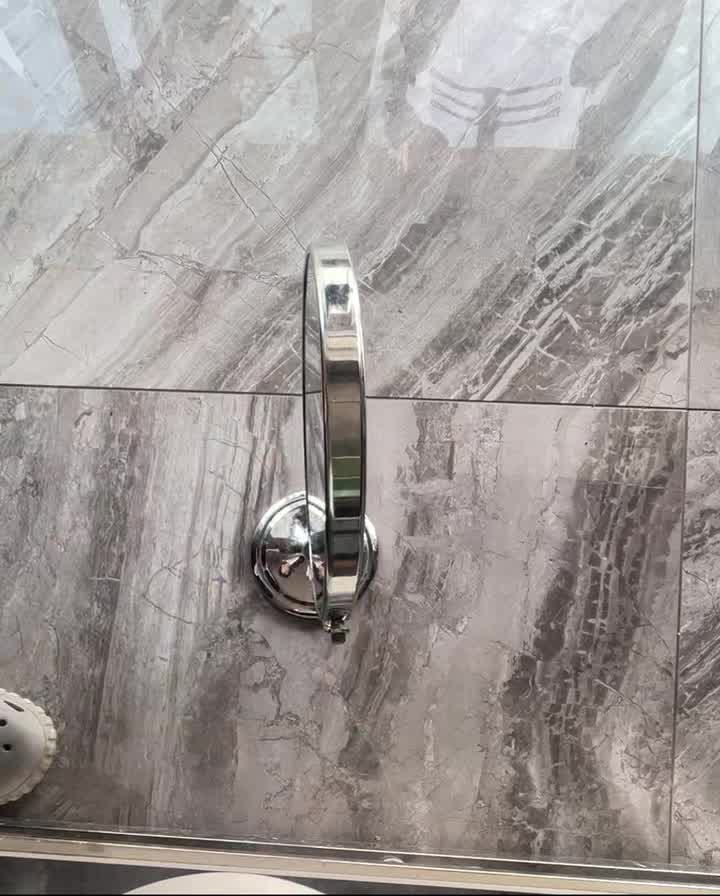base: (251, 499, 396, 647)
mirror: (268, 231, 399, 605)
screw: (315, 620, 365, 666)
